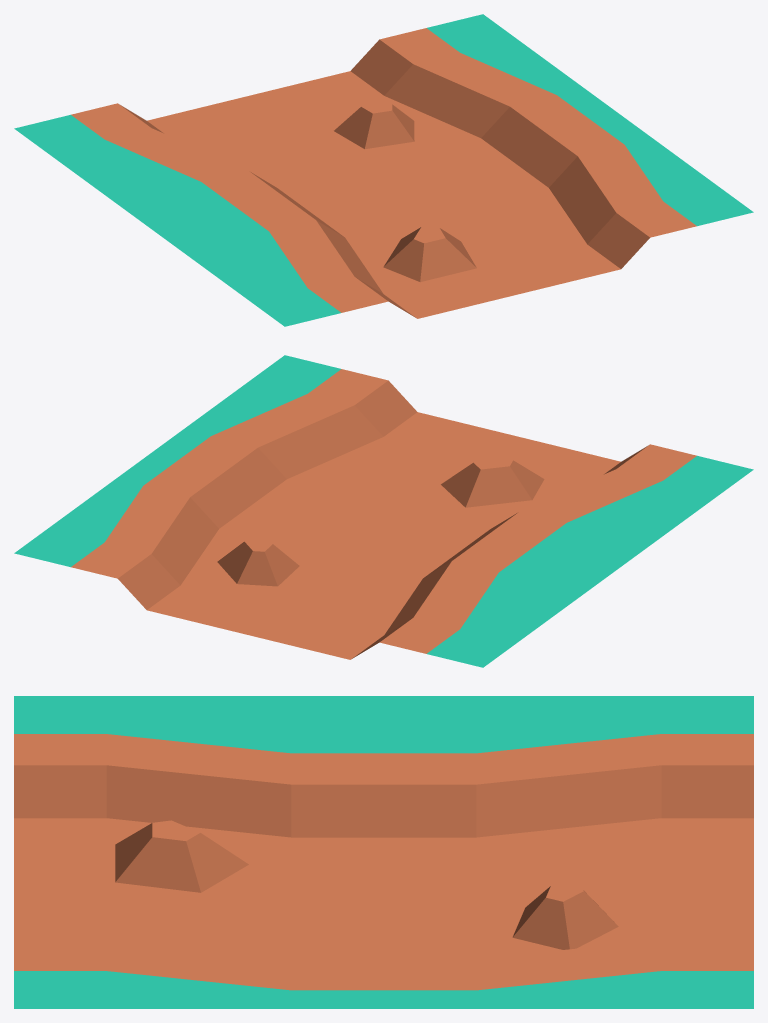
File: ground_pathRocks.fbx
3 views of the same model, one above another, from view 1: azimuth 30°, elevation 25°; view 2: azimuth 150°, elevation 25°; view 3: azimuth 270°, elevation 25° (orthographic). The views are drawn at different scales.
Visible parts, largest first — view 1: ground_pathRocks; view 2: ground_pathRocks; view 3: ground_pathRocks.
Boxes of the visible parts, x1,y1,x2,y2 form: ground_pathRocks: [14, 14, 753, 326]; ground_pathRocks: [14, 355, 753, 667]; ground_pathRocks: [14, 696, 753, 1008].
Bounding box in the file's own units: 10 × 0.5 × 10.
